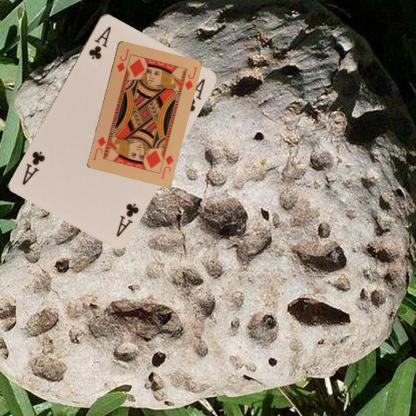Ac: (114, 199, 140, 238), (86, 23, 112, 61)
Jd: (158, 152, 174, 180), (114, 46, 130, 73)
